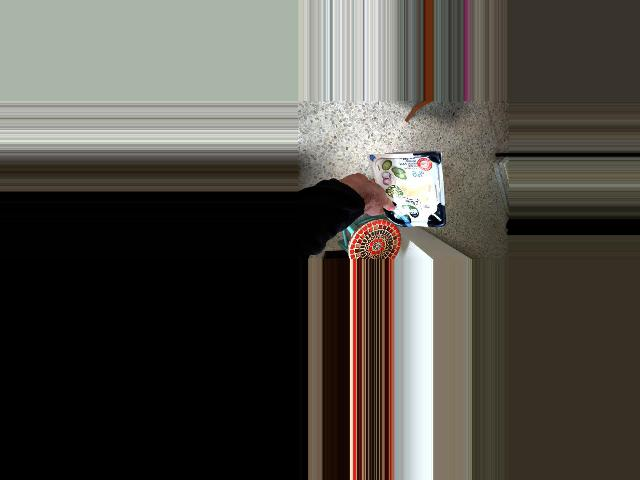cheese: (346, 141, 442, 236)
